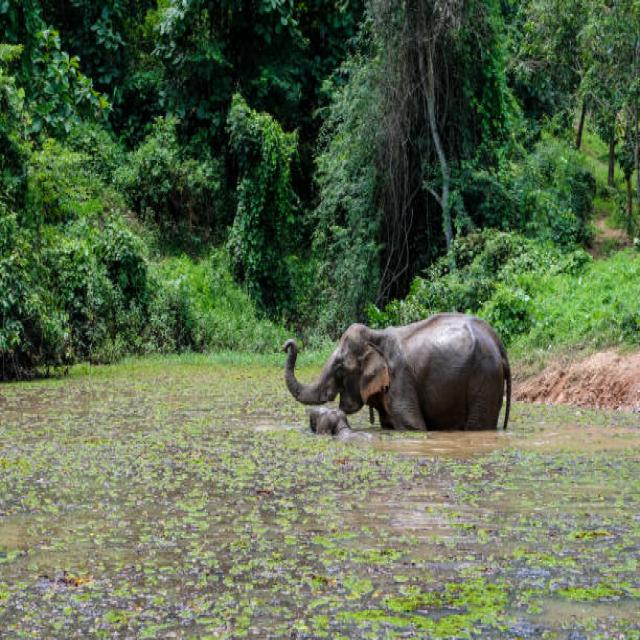Elephant: (277, 297, 530, 466)
